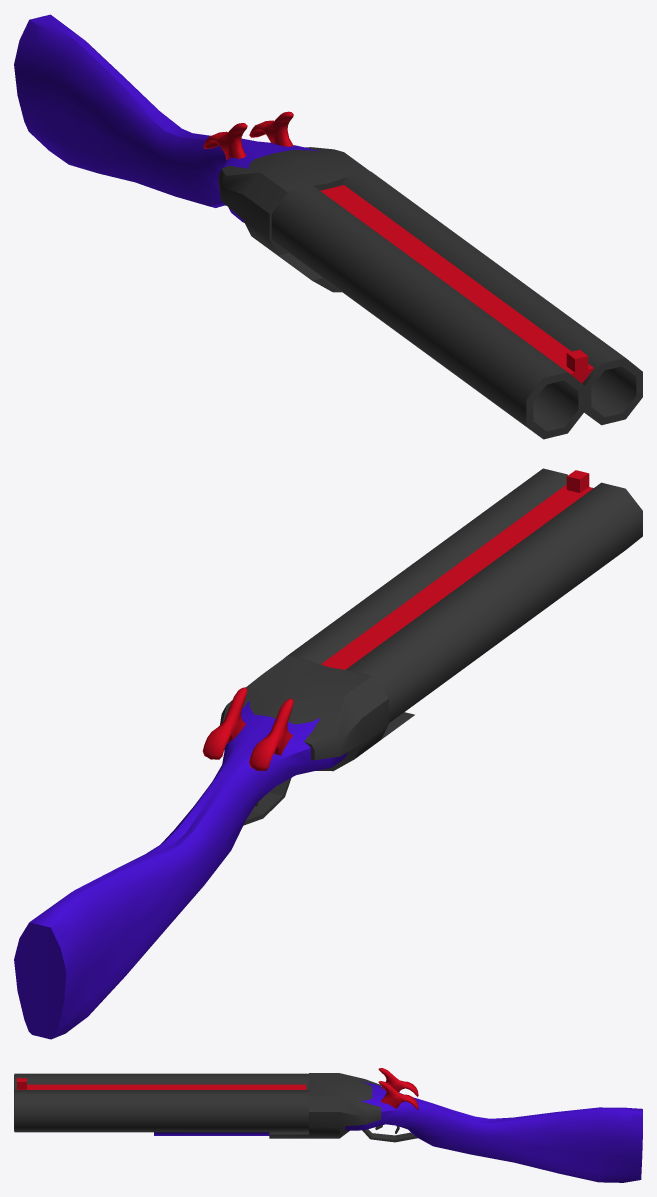
The model's file is shoga.fbx.
The picture shows the model from 3 angles, top to bottom: view 1: azimuth 30°, elevation 25°; view 2: azimuth 150°, elevation 25°; view 3: azimuth 270°, elevation 25°; orthographic projection. The views are drawn at different scales.
Parts seen in each view (by area): view 1: barrels, handle, hummerRight, hammerLeft; view 2: handle, barrels, hummerRight, hammerLeft; view 3: handle, barrels, hammerLeft, hummerRight.
Part boxes in pixels (bbox=[...]): barrels: bbox=[271, 171, 642, 439]; handle: bbox=[14, 14, 370, 292]; hummerRight: bbox=[203, 123, 247, 160]; hammerLeft: bbox=[249, 111, 293, 146]; handle: bbox=[14, 656, 414, 1039]; barrels: bbox=[285, 468, 642, 722]; hummerRight: bbox=[249, 698, 293, 770]; hammerLeft: bbox=[202, 687, 247, 759]; handle: bbox=[269, 1073, 642, 1182]; barrels: bbox=[14, 1073, 308, 1135]; hammerLeft: bbox=[378, 1081, 418, 1109]; hummerRight: bbox=[378, 1068, 418, 1096].
Bounding box in the file's own units: 10.16 × 15.1 × 80.89.
